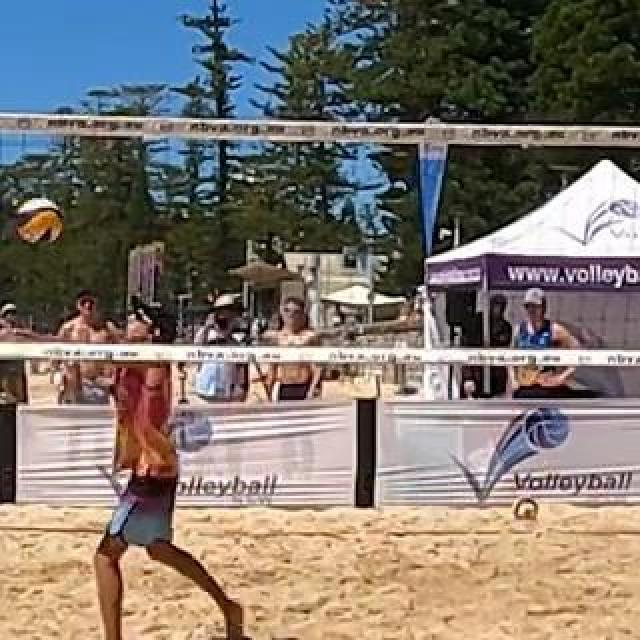volleyball: (16, 198, 62, 244), (514, 495, 538, 521)
